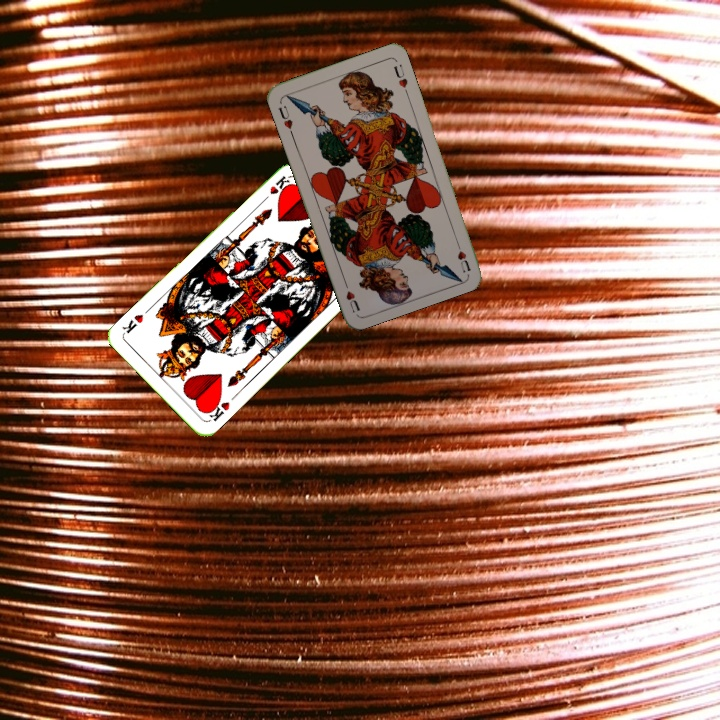HK: (256, 172, 292, 206), (202, 395, 232, 424)
HU: (452, 236, 473, 275), (274, 101, 296, 137)
